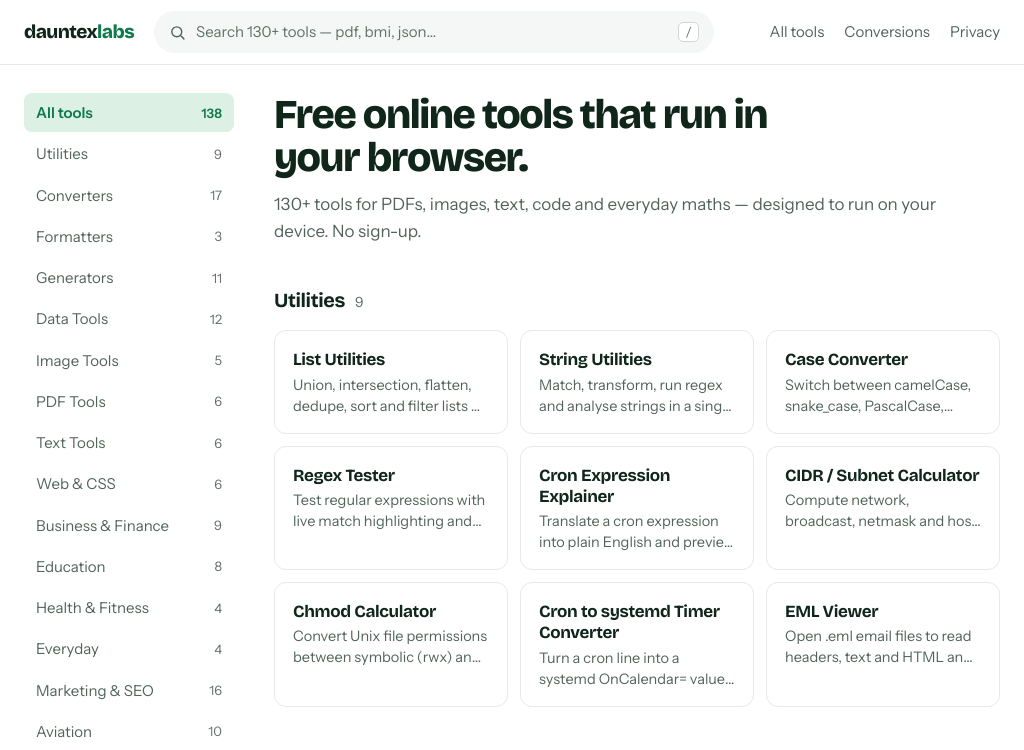
Test: HomeClient › sidebar click filters the deck
Click the button "Image Tools 5".
click(129, 360)  # box [24,340,234,380]
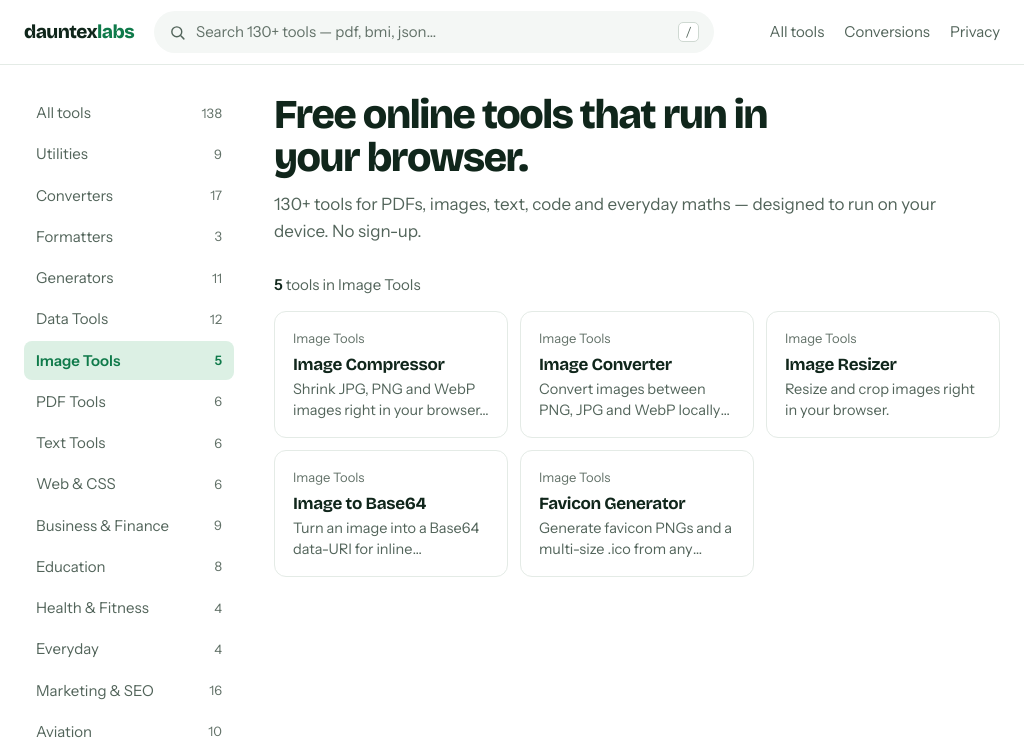
Now the text "5 tools in Image Tools" is shown, box [274,275,420,294]
